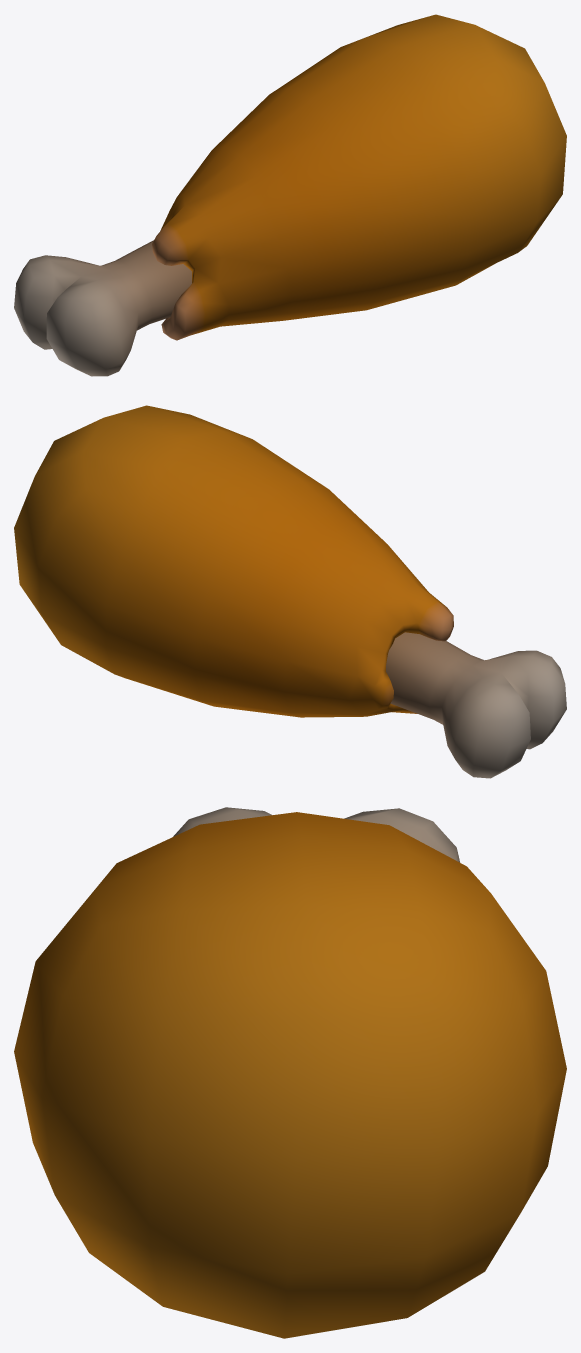
Rendered from chicken.glb.
3 renders of one model, top to bottom at view 1: azimuth 30°, elevation 25°; view 2: azimuth 150°, elevation 25°; view 3: azimuth 270°, elevation 25°, orthographic. The views are drawn at different scales.
Parts seen in each view (by area): view 1: geometry_0; view 2: geometry_0; view 3: geometry_0.
Boxes of the visible parts, left/top/right/bottom form: geometry_0: left=14, top=14, right=566, bottom=376; geometry_0: left=14, top=405, right=566, bottom=778; geometry_0: left=14, top=807, right=566, bottom=1338.
Size of the model in its own units: 0.1389 by 0.0639 by 0.0673.
Materials: 1 (1 with a texture image).
